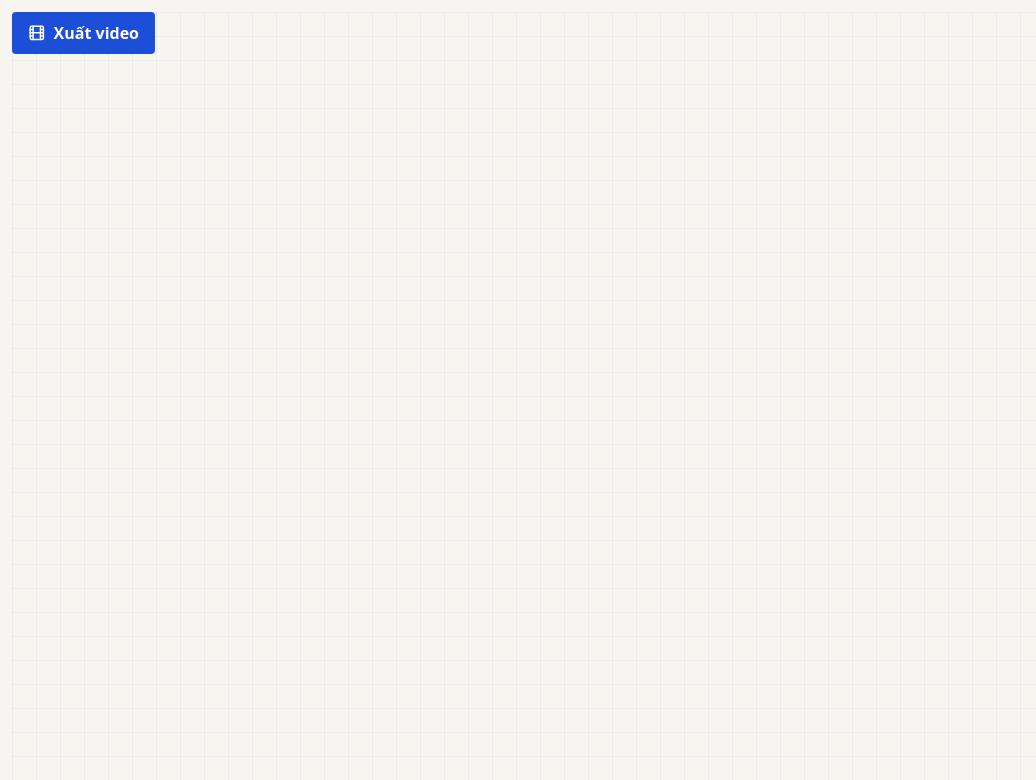
Scenario: ExportControls › bấm Hủy: dừng, không tải tệp nào
Step 1. Click the button "Xuất video" → (84, 33), box [12,12,155,54]
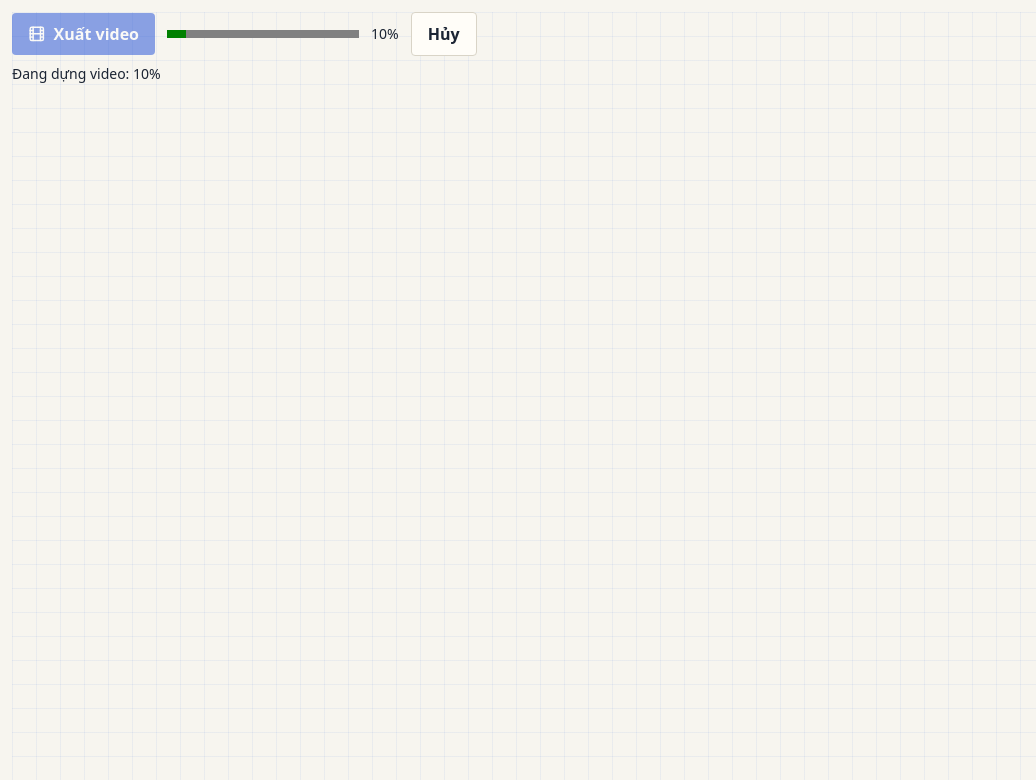
Step 2. Click the button "Hủy" → (444, 34), box [411,12,477,56]
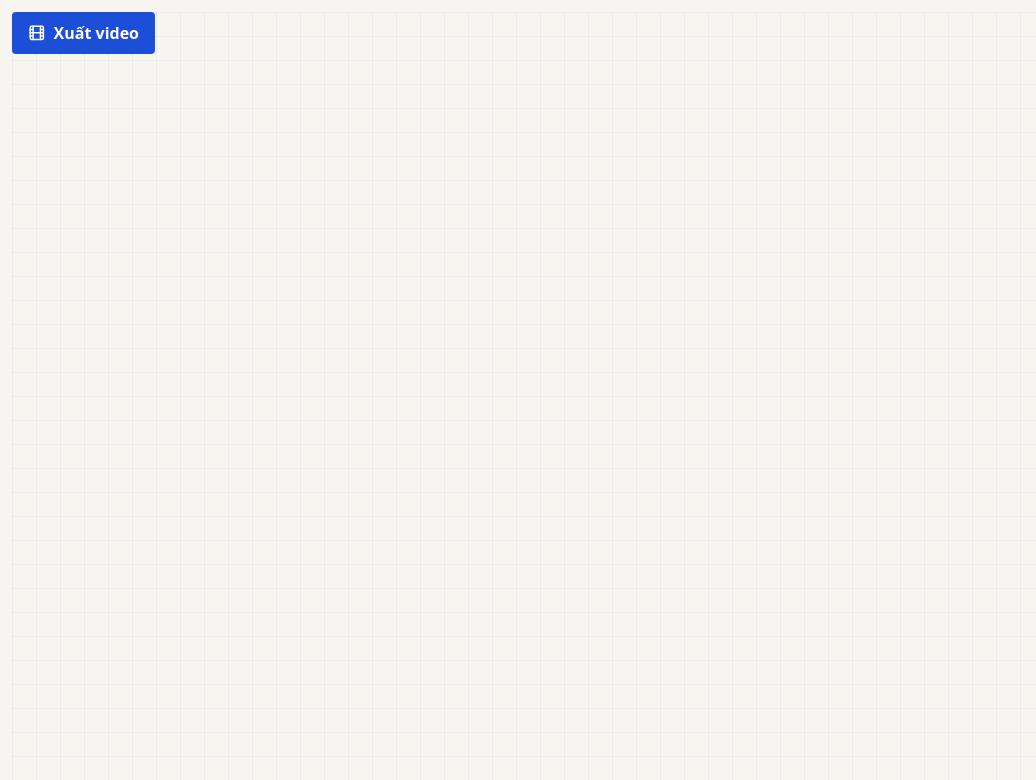
Result: the button "Hủy" is gone
Result: the button "Xuất video" is enabled at [12,12,155,54]
